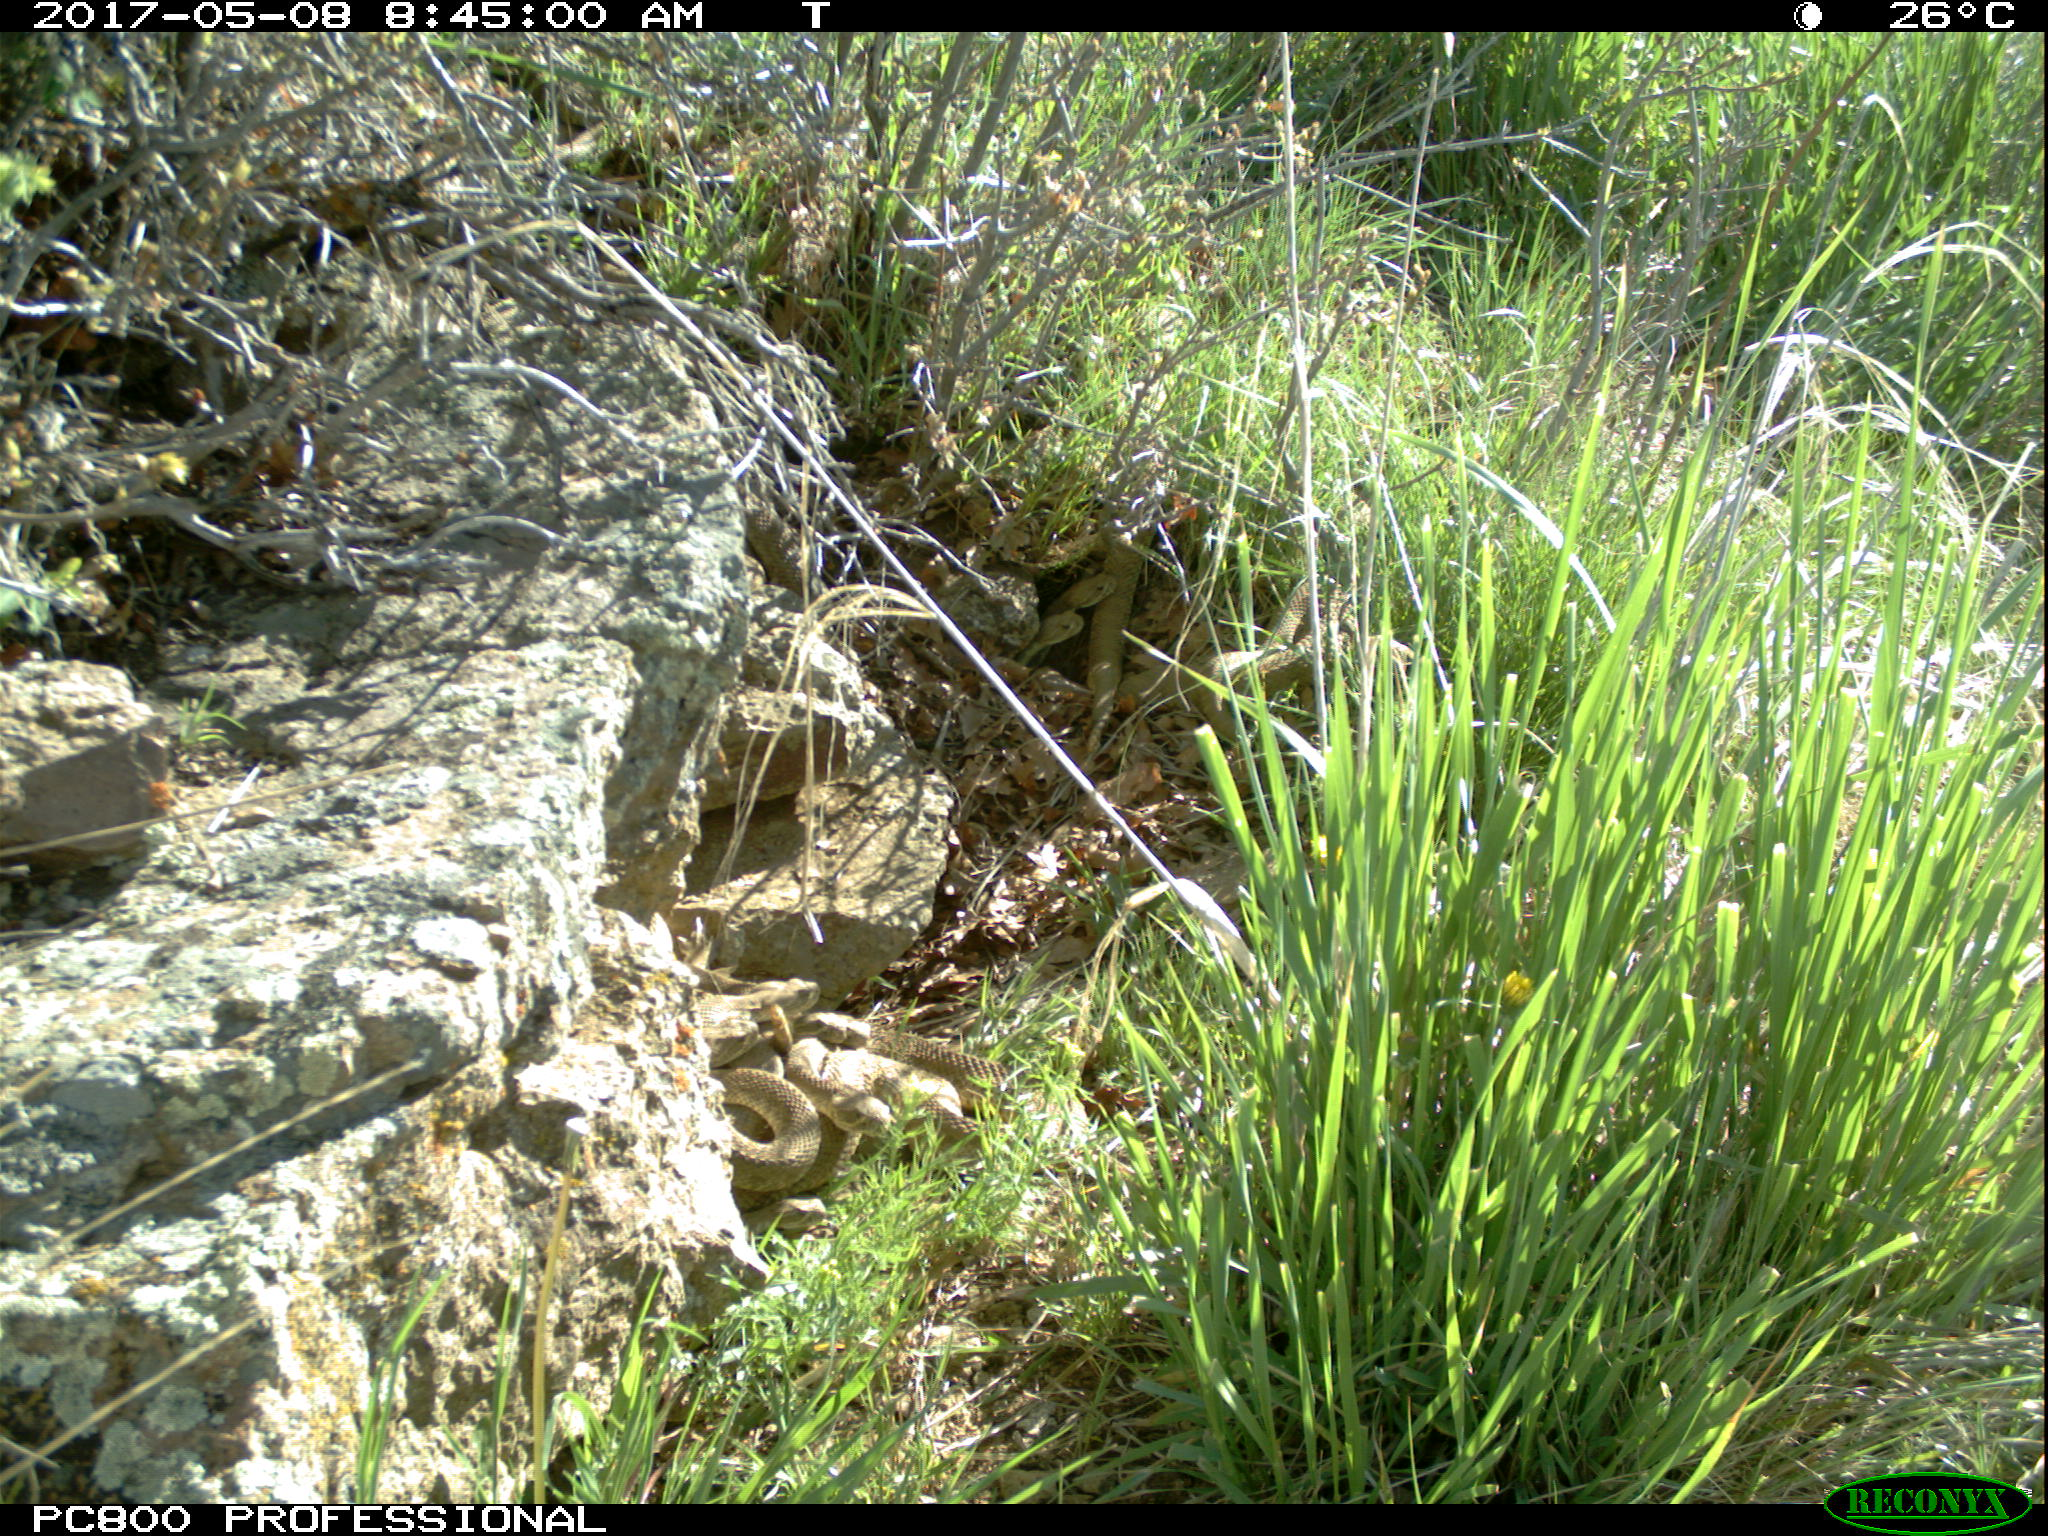snake: (689, 994, 1042, 1178), (1022, 545, 1356, 734), (732, 481, 876, 615)
